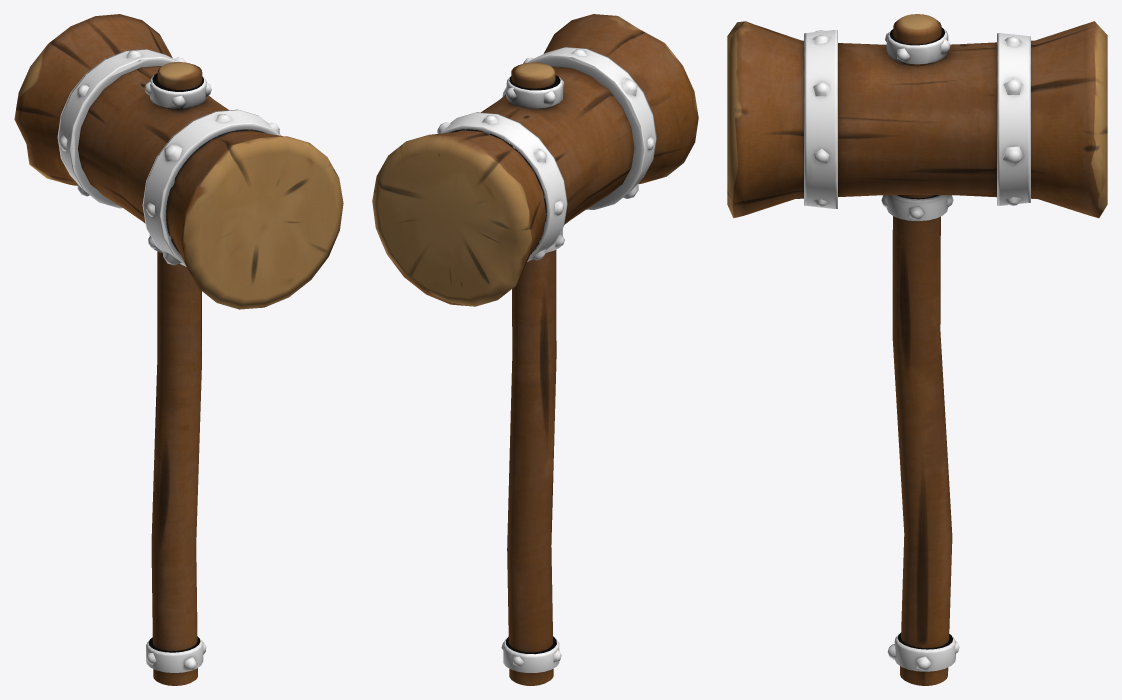
Rendered from hummer_mdl_005_textured.fbx.
3 views of the same model, side by side, from view 1: azimuth 30°, elevation 25°; view 2: azimuth 150°, elevation 25°; view 3: azimuth 270°, elevation 25° (orthographic). The views are drawn at different scales.
Visible parts, largest first — view 1: hummer_head_low, hummer_handle_low; view 2: hummer_head_low, hummer_handle_low; view 3: hummer_head_low, hummer_handle_low.
Part boxes in pixels (x1,y1,x2,y2): hummer_head_low: [14, 14, 343, 309]; hummer_handle_low: [144, 62, 211, 685]; hummer_head_low: [372, 14, 698, 306]; hummer_handle_low: [501, 62, 564, 685]; hummer_head_low: [727, 21, 1107, 218]; hummer_handle_low: [881, 14, 959, 685].
Bounding box in the file's own units: 70.79 × 258 × 136.
